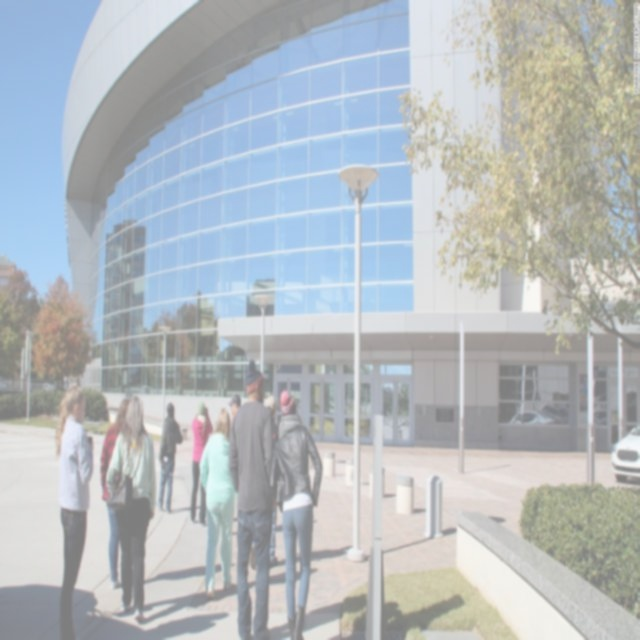pessoa: (268, 386, 326, 639), (227, 355, 276, 639), (104, 392, 158, 626), (52, 381, 95, 638), (198, 406, 236, 600), (98, 396, 132, 590), (250, 393, 280, 572), (152, 399, 184, 515), (189, 401, 213, 528), (228, 392, 242, 418)
